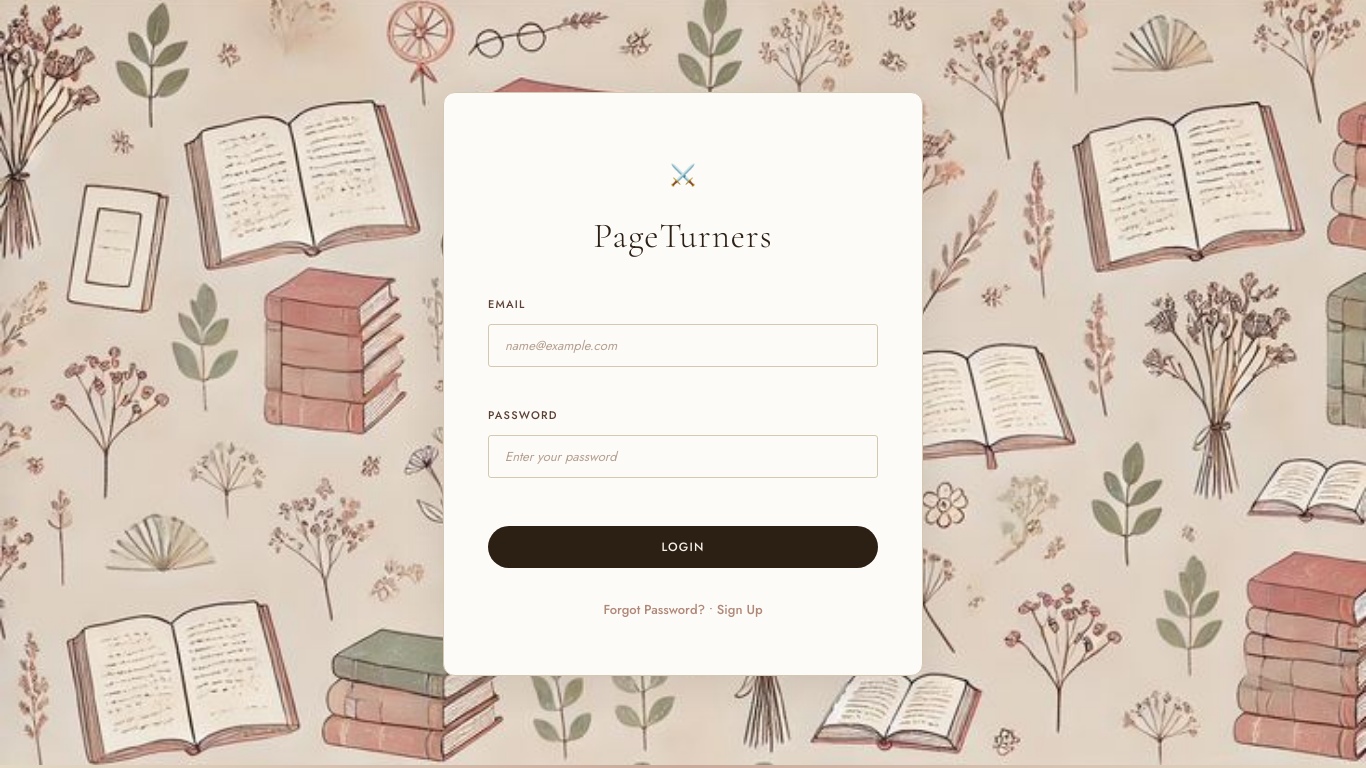
Test case: Login Component - Frontend Tests › Form Rendering › Form Validation › should clear validation errors on typing
The width and height of the screenshot is (1366, 768).
Click the button with test id "login-submit-btn": (683, 547) [488,526,878,568]
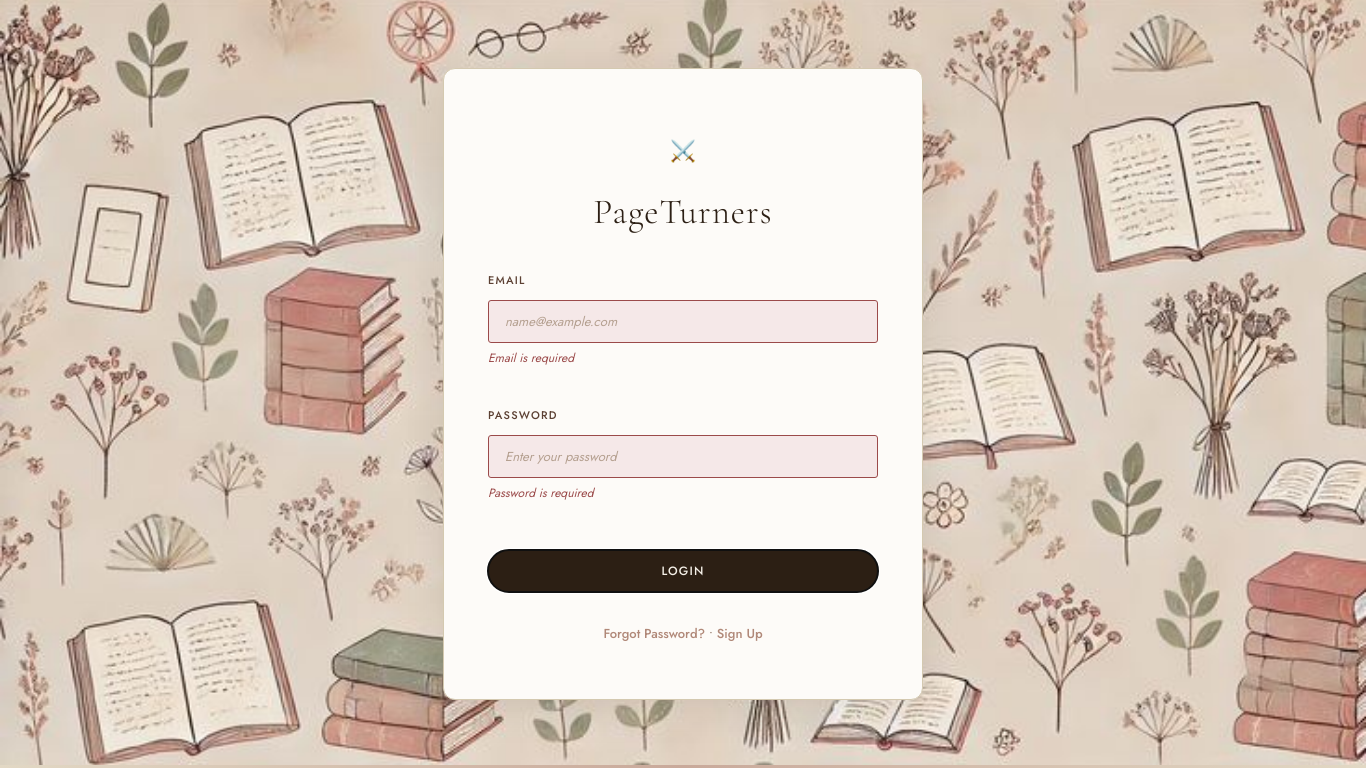
Now the text "Email is required" is shown, box [488,349,574,367]
In the field with test id "email-input": (683, 321) [488,300,878,343], type "a"
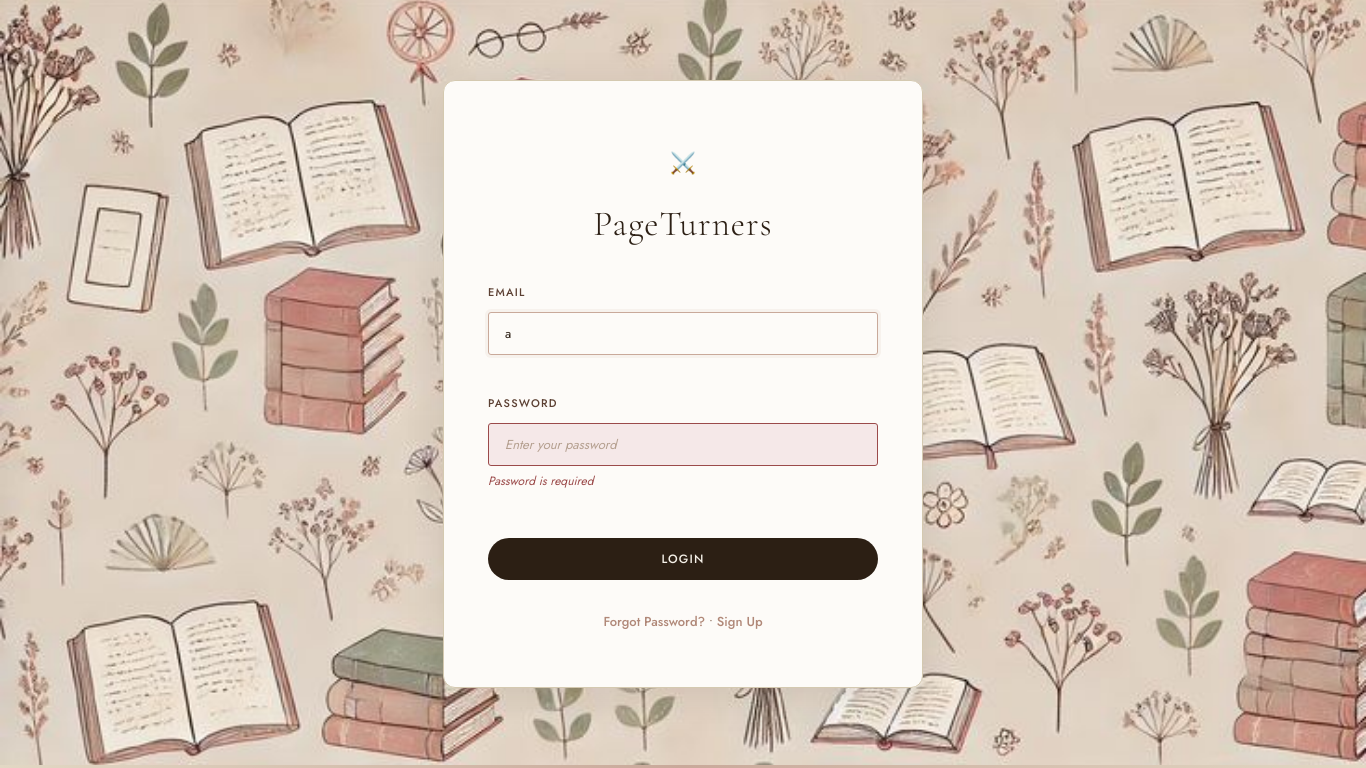
Now the text "Email is required" is gone
